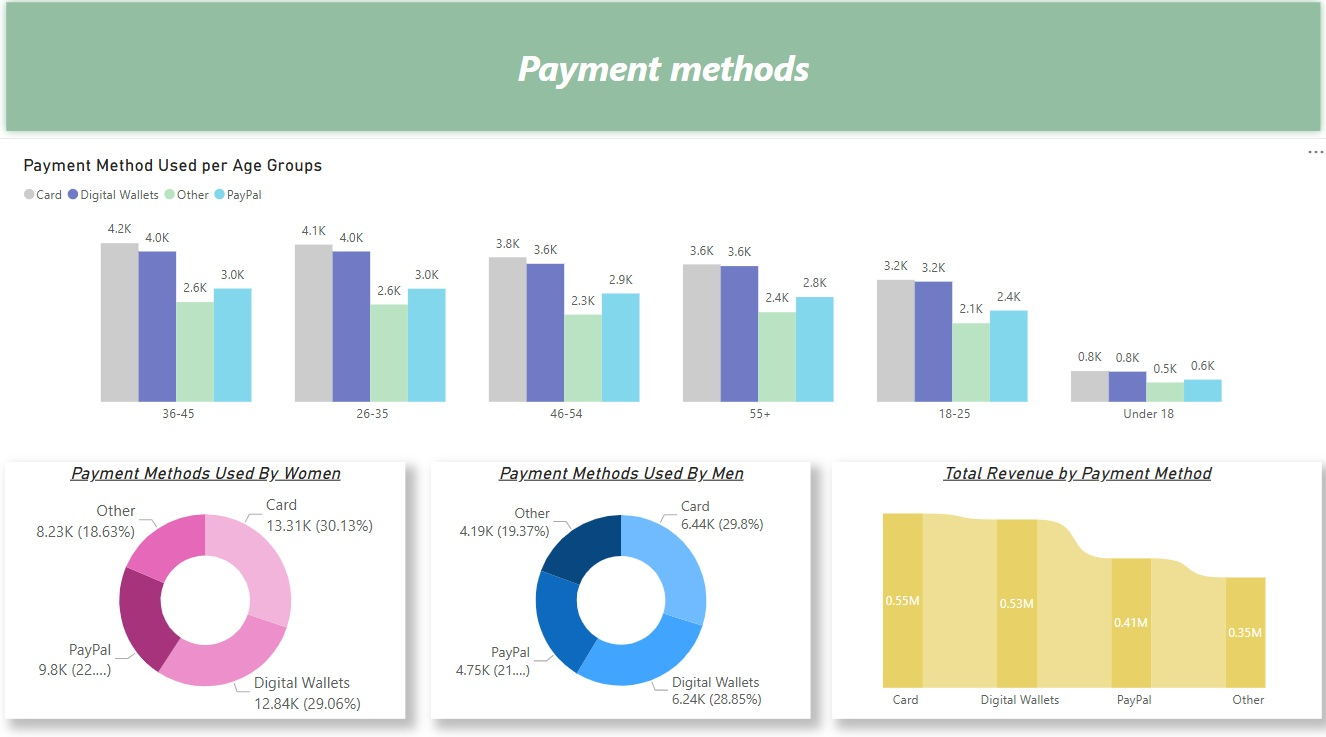

The page's visual inventory and layout, read from the dashboard file:
{"tool":"powerbi","page":{"name":"Payment methods","canvas":[1280,720],"ordinal":2},"visuals":[{"type":"shape","title":"Customers'' info","box":[0,0,1279.7,139.7],"z":0},{"type":"donutChart","title":"Payment Methods Used By Men","fields":{"Y":["CountNonNull(Online Shop Customer Sales Data.Pay_Method)"],"Category":["Online Shop Customer Sales Data.Payment Method"]},"box":[416.4,450.1,365.4,247.2],"z":1000},{"type":"ribbonChart","title":"Total Revenue by Payment Method ","fields":{"Category":["Online Shop Customer Sales Data.Payment Method Label"],"Y":["Sum(Online Shop Customer Sales Data.Revenue_Total)"]},"box":[802,450.1,471.2,247.2],"z":2000},{"type":"donutChart","title":"Payment Methods Used By Women","fields":{"Y":["CountNonNull(Online Shop Customer Sales Data.Pay_Method)"],"Category":["Online Shop Customer Sales Data.Payment Method"]},"box":[6.8,450.3,385.2,247.1],"z":3000},{"type":"clusteredColumnChart","title":"Payment Method Used per Age Groups","fields":{"Category":["Online Shop Customer Sales Data.Age bins"],"Y":["CountNonNull(Online Shop Customer Sales Data.Payment Method Label)"],"Series":["Online Shop Customer Sales Data.Payment Method Label"]},"box":[19.2,153.9,1241.5,268.3],"z":4000}]}

Visuals, with their boxes in screenshot pixels (x1, y1, x2, y2), scaled from the page's 1280x720 canvas onto the 1326x737 screenshot:
"Customers'' info" shape: (0, 0, 1325, 143)
"Payment Methods Used By Men" donutChart: (431, 461, 810, 714)
"Total Revenue by Payment Method " ribbonChart: (831, 461, 1319, 714)
"Payment Methods Used By Women" donutChart: (7, 461, 406, 714)
"Payment Method Used per Age Groups" clusteredColumnChart: (20, 158, 1306, 432)
